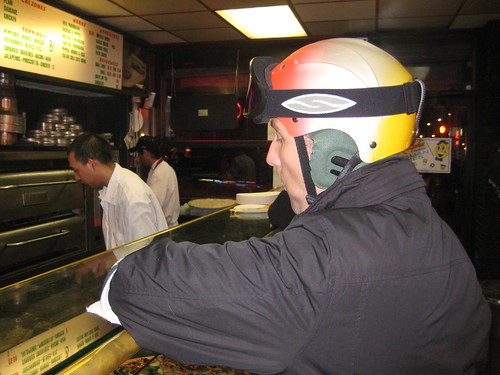helmet: (250, 34, 431, 157)
